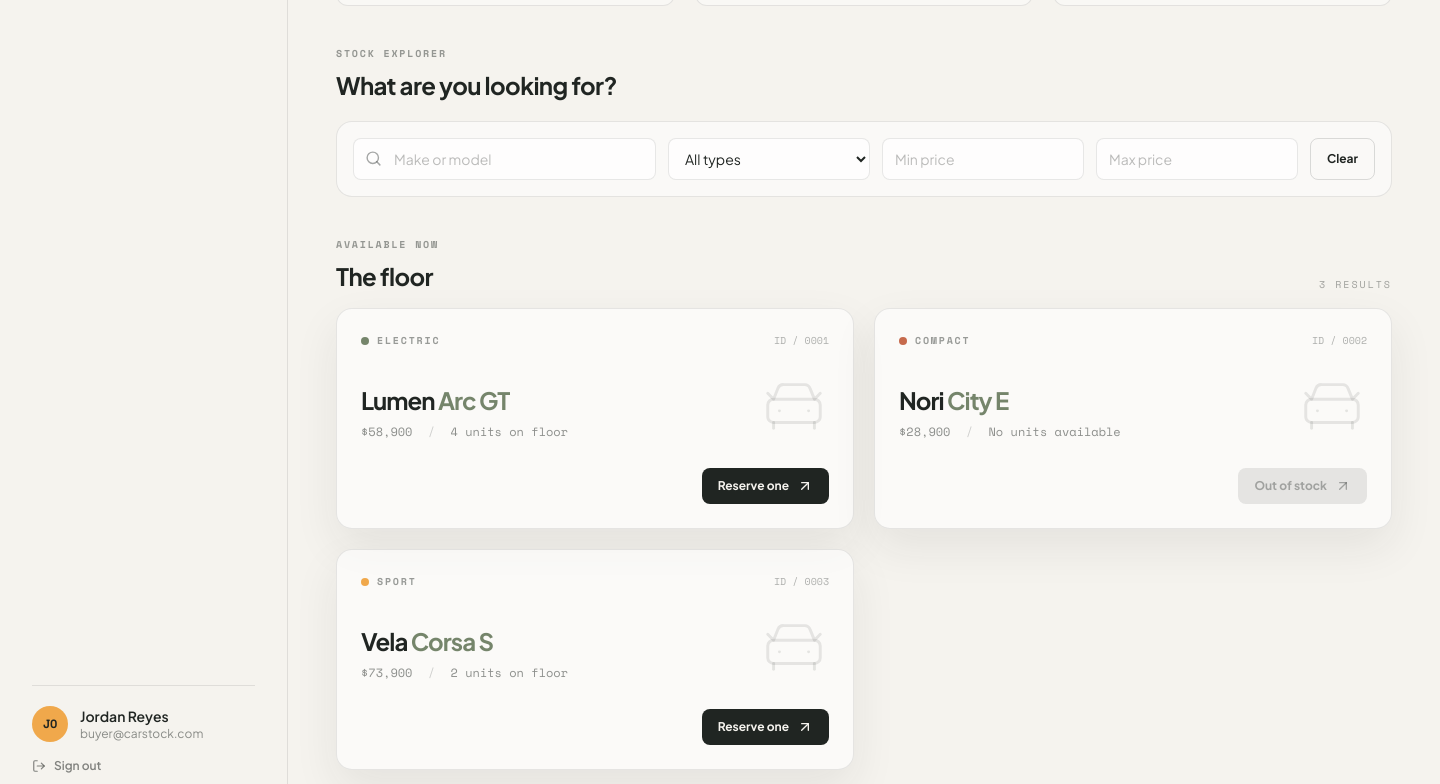
Test case: Dashboard (customer) › purchases and updates the quantity shown
(page scrolled)
Click the button "Reserve one" below "4 units on floor" at (765, 486), box [702, 468, 829, 504]
(page scrolled)
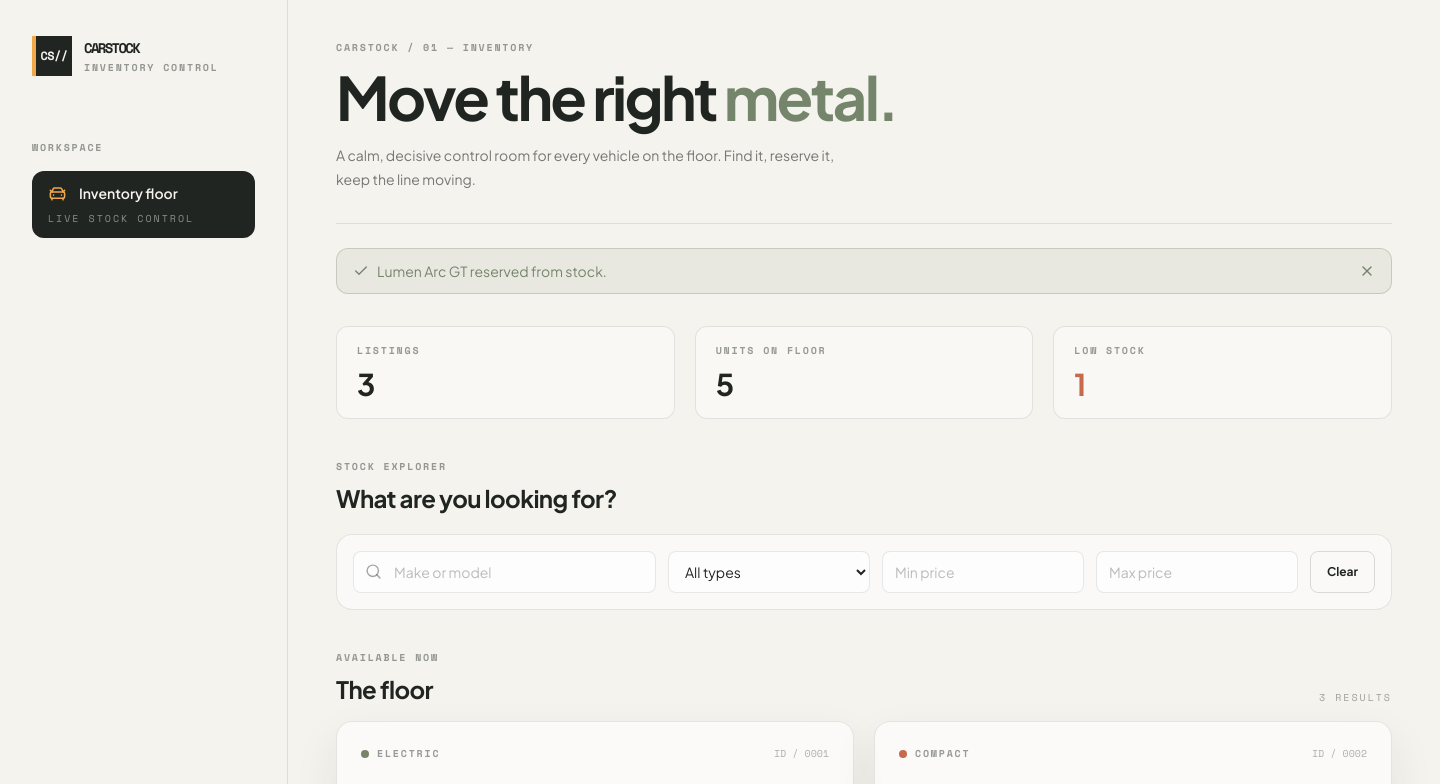
Now the message shows "reserved from stock", box [377, 262, 607, 280]
